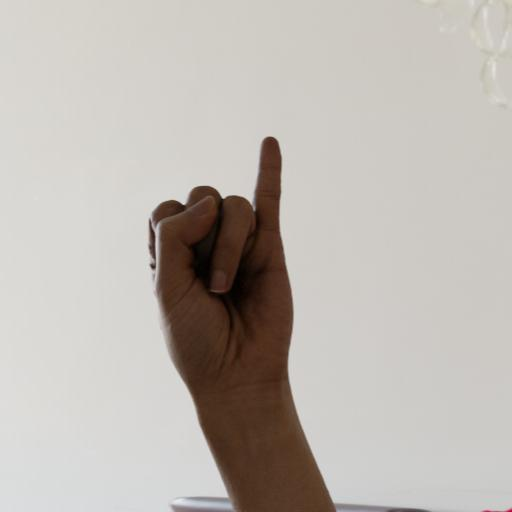I: (126, 124, 306, 482)
